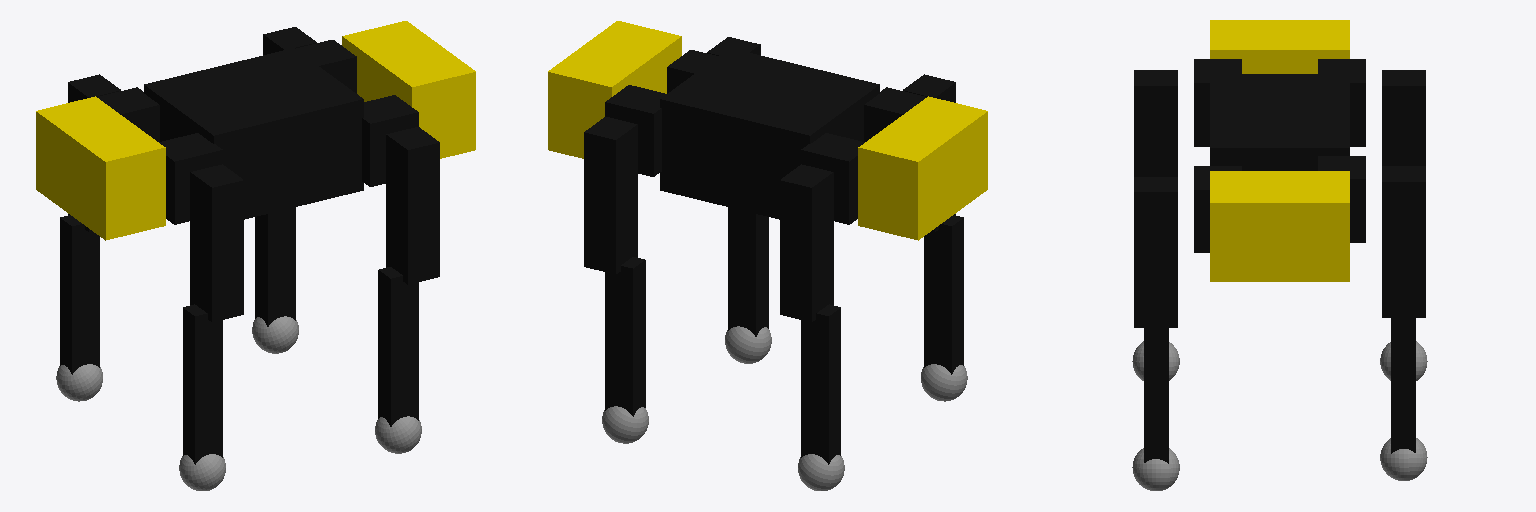
URDF robot description (SpotMicroAI):
<?xml version="1.0" encoding="utf-8"?>
<!-- =================================================================================== -->
<!-- |    This document was autogenerated by xacro from urdf/spotmicroai.urdf.xacro    | -->
<!-- |    EDITING THIS FILE BY HAND IS NOT RECOMMENDED                                 | -->
<!-- =================================================================================== -->
<robot name="SpotMicroAI">
  <material name="yellow">
    <color rgba="0.92 0.83 0.0 1"/>
  </material>
  <material name="black">
    <color rgba="0.1 0.1 0.1 1"/>
  </material>
  <material name="grey">
    <color rgba="0.6 0.6 0.6 1"/>
  </material>
  <!-- Params -->
  <!-- Macros -->
  <!-- Robot Body -->
  <link name="base_link">
    <visual>
      <geometry>
        <box size="0.14 0.113 0.0815"/>
      </geometry>
      <material name="black"/>
      <origin rpy="0 0 0" xyz="0.0 0.0 -0.00575"/>
      <!-- <origin rpy="0 0 0" xyz="-0.045 -0.060 -0.015"/> -->
    </visual>
    <collision>
      <geometry>
        <box size="0.14 0.11 0.07"/>
      </geometry>
      <origin rpy="0 0 0" xyz="0 0 0"/>
    </collision>
    <inertial>
      <mass value="2.80"/>
      <inertia ixx="100" ixy="0" ixz="0" iyy="100" iyz="0" izz="100"/>
    </inertial>
  </link>
  <!-- Lidar Backpack -->
  <!-- <link name="lidar_link">
    <visual>
      <geometry>
        <box size="0.0985 0.0577 0.07"/>
      </geometry>
      <material name="black"/>
      <origin rpy="1.57075 0 0" xyz="-0.06425 0.02885 0"/>
    </visual>
    <collision>
      <geometry>
        <box size="0.0985 0.0577 0.07"/>
      </geometry>
      <origin rpy="0 0 0" xyz="0 0 0"/>
    </collision>
    <inertial>
      <mass value="0.50"/>
      <inertia ixx="100" ixy="0" ixz="0" iyy="100" iyz="0" izz="100"/>
    </inertial>
  </link>
  <joint name="base_lidar" type="fixed">
    <parent link="base_link"/>
    <child link="lidar_link"/>
    <origin xyz="0 0 0.035"/>
  </joint> -->
  <link name="rear_link">
    <visual>
      <geometry>
        <box size="0.056 0.113 0.07"/>
      </geometry>
      <origin rpy="0 0 0" xyz="-0.143 0.0 0.0"/>
      <material name="yellow"/>
    </visual>
    <collision>
      <geometry>
        <box size="0.056 0.113 0.07"/>
      </geometry>
      <origin rpy="0 0 0" xyz="0.135 0 0"/>
    </collision>
    <inertial>
      <mass value="0.20"/>
      <inertia ixx="100" ixy="0" ixz="0" iyy="100" iyz="0" izz="100"/>
    </inertial>
  </link>
  <joint name="base_rear" type="fixed">
    <parent link="base_link"/>
    <child link="rear_link"/>
  </joint>
  <link name="front_link">
    <visual>
      <geometry>
        <box size="0.06 0.113 0.07"/>
      </geometry>
      <origin rpy="0 0 0" xyz="0.145 0.0 0.0"/>
      <material name="yellow"/>
    </visual>
    <collision>
      <geometry>
        <box size="0.06 0.113 0.07"/>
      </geometry>
      <origin rpy="0 0 0" xyz="-0.145 0 0"/>
    </collision>
    <inertial>
      <mass value="0.20"/>
      <inertia ixx="100" ixy="0" ixz="0" iyy="100" iyz="0" izz="100"/>
    </inertial>
  </link>
  <joint name="base_front" type="fixed">
    <parent link="base_link"/>
    <child link="front_link"/>
  </joint>
  <!-- create Legs -->
  <link name="front_left_shoulder_link">
    <visual>
      <geometry>
        <box size="0.0452 0.0385 0.0565"/>
      </geometry>
      <origin rpy="0 0 0" xyz="0.0 -0.01 -0.01"/>
      <material name="black"/>
    </visual>
    <collision>
      <geometry>
        <box size="0.0452 0.0385 0.0565"/>
      </geometry>
      <origin rpy="0 0 0" xyz="0 0 0"/>
    </collision>
    <inertial>
      <mass value="0.10"/>
      <inertia ixx="100" ixy="0" ixz="0" iyy="100" iyz="0" izz="100"/>
    </inertial>
  </link>
  <!-- <link name="front_left_leg_link_cover">
    <visual>
      <geometry>
        <mesh filename="package://kinematic_pkg/STL/larm_cover.stl" scale="0.001 0.001 0.001"/>
      </geometry>
      <origin rpy="0 0 0" xyz="-0.125 0.04 -0.02"/>
      <material name="yellow"/>
    </visual>
  </link> -->
  <link name="front_left_leg_link">
    <visual>
      <geometry>
        <box size="0.03 0.035 0.12"/>
      </geometry>
      <!-- <origin rpy="0 0 0" xyz="-0.125 0.04 -0.02"/> -->
      <origin rpy="0 0 0" xyz="0.0 0.0 -0.037"/>
      <material name="black"/>
      <!--        <geometry>
          <box size="0.028 0.036 ${leg_length}"/>
        </geometry>
        <origin rpy="0.0 0.0 0.0" xyz="0.0 0.0 -0.050"/>
        <material name="yellow"/>-->
    </visual>
    <collision>
      <origin rpy="0.0 0.0 0.0" xyz="0.0 0.0 -0.050"/>
      <geometry>
        <box size="0.03 0.035 0.12"/>
      </geometry>
    </collision>
    <inertial>
      <mass value="0.15"/>
      <inertia ixx="1000" ixy="0" ixz="0" iyy="1000" iyz="0" izz="1000"/>
    </inertial>
  </link>
  <link name="front_left_foot_link">
    <visual>
      <geometry>
        <box size="0.026 0.020 0.1355"/>
      </geometry>
      <origin rpy="0 0 0" xyz="0.0 0.0 -0.042"/>
      <material name="black"/>
    </visual>
    <collision>
      <geometry>
        <box size="0.026 0.020 0.1355"/>
      </geometry>
      <origin rpy="0.0 0.0 0.0" xyz="0.0 0.0 -0.050"/>
    </collision>
    <inertial>
      <mass value="0.1"/>
      <inertia ixx="1000" ixy="0" ixz="0" iyy="1000" iyz="0" izz="1000"/>
    </inertial>
  </link>
  <link name="front_left_toe_link">
    <visual>
      <geometry>
        <sphere radius="0.019"/>
      </geometry>
      <origin rpy="0 -0.40010 0" xyz="0 0 0"/>
      <material name="grey"/>
    </visual>
    <collision>
      <geometry>
        <sphere radius="0.019"/>
      </geometry>
      <origin rpy="0 0 0" xyz="0 0 0"/>
      <contact_coefficients mu="1.1"/>
    </collision>
    <inertial>
      <mass value="0.05"/>
      <inertia ixx="1000" ixy="0" ixz="0" iyy="1000" iyz="0" izz="1000"/>
    </inertial>
  </link>
  <joint name="front_left_shoulder" type="revolute">
    <parent link="base_link"/>
    <child link="front_left_shoulder_link"/>
    <axis xyz="1 0 0"/>
    <origin rpy="0 0 0" xyz="-0.09135 -0.04 0.009"/>
    <limit effort="1000.0" lower="-0.548" upper="0.548" velocity="0.7"/>
    <dynamics damping="0.0" friction="0.5"/>
  </joint>
  <joint name="front_left_leg" type="revolute">
    <parent link="front_left_shoulder_link"/>
    <child link="front_left_leg_link"/>
    <axis xyz="0 1 0"/>
    <origin rpy="0 0 0" xyz="0.0 -0.0593 -0.01075"/>
    <limit effort="1000.0" lower="-2.666" upper="1.548" velocity="0.5"/>
    <dynamics damping="0.0" friction="0.0"/>
  </joint>
  <!-- <joint name="front_left_leg_cover_joint" type="fixed">
    <parent link="front_left_leg_link"/>
    <child link="front_left_leg_link_cover"/>
    <origin xyz="0 0 0"/>
  </joint> -->
  <joint name="front_left_foot" type="revolute">
    <parent link="front_left_leg_link"/>
    <child link="front_left_foot_link"/>
    <axis xyz="0 1 0"/>
    <origin rpy="0 0 0" xyz="-0.01375 0 -0.1176"/>
    <limit effort="1000.0" lower="-0.1" upper="2.59" velocity="0.5"/>
    <dynamics damping="0.0" friction="0.5"/>
  </joint>
  <joint name="front_left_toe" type="fixed">
    <parent link="front_left_foot_link"/>
    <child link="front_left_toe_link"/>
    <origin xyz="0 0 -0.1165"/>
  </joint>

  <link name="front_right_shoulder_link">
    <visual>
      <geometry>
        <box size="0.0452 0.0385 0.0565"/>
      </geometry>
      <origin rpy="0 0 0" xyz="0.0 0.01 -0.01"/>
      <material name="black"/>
    </visual>
    <collision>
      <geometry>
        <box size="0.0452 0.0385 0.0565"/>
      </geometry>
      <origin rpy="0 0 0" xyz="0 0 0"/>
    </collision>
    <inertial>
      <mass value="0.10"/>
      <inertia ixx="100" ixy="0" ixz="0" iyy="100" iyz="0" izz="100"/>
    </inertial>
  </link>
  <!-- <link name="front_right_leg_link_cover">
    <visual>
      <geometry>
        <mesh filename="package://kinematic_pkg/STL/rarm_cover.stl" scale="0.001 0.001 0.001"/>
      </geometry>
      <origin rpy="0 0 0" xyz="-0.125 -0.15 -0.02"/>
      <material name="yellow"/>
    </visual>
  </link> -->
  <link name="front_right_leg_link">
    <visual>
      <geometry>
        <box size="0.03 0.035 0.12"/>
      </geometry>
      <origin rpy="0 0 0" xyz="0.0 0.0 -0.037"/>
      <material name="black"/>
      <!--        <geometry>
          <box size="0.028 0.036 ${leg_length}"/>
        </geometry>
        <origin rpy="0.0 0.0 0.0" xyz="0.0 0.0 -0.050"/>
        <material name="yellow"/>-->
    </visual>
    <collision>
      <origin rpy="0.0 0.0 0.0" xyz="0.0 0.0 -0.050"/>
      <geometry>
        <box size="0.03 0.035 0.12"/>
      </geometry>
    </collision>
    <inertial>
      <mass value="0.15"/>
      <inertia ixx="1000" ixy="0" ixz="0" iyy="1000" iyz="0" izz="1000"/>
    </inertial>
  </link>
  <link name="front_right_foot_link">
    <visual>
      <geometry>
        <box size="0.026 0.020 0.1355"/>
      </geometry>
      <origin rpy="0 0 0" xyz="0.0 0.0 -0.042"/>
      <material name="black"/>
    </visual>
    <collision>
      <geometry>
        <box size="0.026 0.020 0.1355"/>
      </geometry>
      <origin rpy="0.0 0.0 0.0" xyz="0.0 0.0 -0.050"/>
    </collision>
    <inertial>
      <mass value="0.1"/>
      <inertia ixx="1000" ixy="0" ixz="0" iyy="1000" iyz="0" izz="1000"/>
    </inertial>
  </link>
  <link name="front_right_toe_link">
    <visual>
      <geometry>
        <sphere radius="0.019"/>
      </geometry>
      <origin rpy="0 -0.40010 0" xyz="0 0 0"/>
      <material name="grey"/>
    </visual>
    <collision>
      <geometry>
        <sphere radius="0.019"/>
      </geometry>
      <origin rpy="0 0 0" xyz="0 0 0"/>
      <contact_coefficients mu="1.1"/>
    </collision>
    <inertial>
      <mass value="0.05"/>
      <inertia ixx="1000" ixy="0" ixz="0" iyy="1000" iyz="0" izz="1000"/>
    </inertial>
  </link>
  <joint name="front_right_shoulder" type="revolute">
    <parent link="base_link"/>
    <child link="front_right_shoulder_link"/>
    <axis xyz="1 0 0"/>
    <origin rpy="0 0 0" xyz="-0.09135 0.04 0.009"/>
    <limit effort="1000.0" lower="-0.548" upper="0.548" velocity="0.7"/>
    <dynamics damping="0.0" friction="0.5"/>
  </joint>
  <joint name="front_right_leg" type="revolute">
    <parent link="front_right_shoulder_link"/>
    <child link="front_right_leg_link"/>
    <axis xyz="0 1 0"/>
    <origin rpy="0 0 0" xyz="0 0.0593 -0.01075"/>
    <limit effort="1000.0" lower="-2.666" upper="1.548" velocity="0.5"/>
    <dynamics damping="0.0" friction="0.0"/>
  </joint>
  <!-- <joint name="front_right_leg_cover_joint" type="fixed">
    <parent link="front_right_leg_link"/>
    <child link="front_right_leg_link_cover"/>
    <origin xyz="0 0 0"/>
  </joint> -->
  <joint name="front_right_foot" type="revolute">
    <parent link="front_right_leg_link"/>
    <child link="front_right_foot_link"/>
    <axis xyz="0 1 0"/>
    <origin rpy="0 0 0" xyz="-0.01375 0 -0.1176"/>
    <limit effort="1000.0" lower="-0.1" upper="2.59" velocity="0.5"/>
    <dynamics damping="0.0" friction="0.5"/>
  </joint>
  <joint name="front_right_toe" type="fixed">
    <parent link="front_right_foot_link"/>
    <child link="front_right_toe_link"/>
    <origin xyz="0 0 -0.1165"/>
  </joint>
  
  <link name="rear_left_shoulder_link">
    <visual>
      <geometry>
        <box size="0.0452 0.0385 0.0565"/>
      </geometry>
      <origin rpy="0 0 0" xyz="0.0 -0.01 -0.01"/>
      <material name="black"/>
    </visual>
    <collision>
      <geometry>
        <box size="0.0452 0.0385 0.0565"/>
      </geometry>
      <origin rpy="0 0 0" xyz="0 0 0"/>
    </collision>
    <inertial>
      <mass value="0.10"/>
      <inertia ixx="100" ixy="0" ixz="0" iyy="100" iyz="0" izz="100"/>
    </inertial>
  </link>
  <!-- <link name="rear_left_leg_link_cover">
    <visual>
      <geometry>
        <mesh filename="package://kinematic_pkg/STL/larm_cover.stl" scale="0.001 0.001 0.001"/>
      </geometry>
      <origin rpy="0 0 0" xyz="-0.125 0.04 -0.02"/>
      <material name="yellow"/>
    </visual>
  </link> -->
  <link name="rear_left_leg_link">
    <visual>
      <geometry>
        <box size="0.03 0.035 0.12"/>
      </geometry>
      <origin rpy="0 0 0" xyz="0.0 0.0 -0.037"/>
      <material name="black"/>
      <!--        <geometry>
          <box size="0.028 0.036 ${leg_length}"/>
        </geometry>
        <origin rpy="0.0 0.0 0.0" xyz="0.0 0.0 -0.050"/>
        <material name="yellow"/>-->
    </visual>
    <collision>
      <origin rpy="0.0 0.0 0.0" xyz="0.0 0.0 -0.050"/>
      <geometry>
        <box size="0.03 0.035 0.12"/>
      </geometry>
    </collision>
    <inertial>
      <mass value="0.15"/>
      <inertia ixx="1000" ixy="0" ixz="0" iyy="1000" iyz="0" izz="1000"/>
    </inertial>
  </link>
  <link name="rear_left_foot_link">
    <visual>
      <geometry>
        <box size="0.026 0.020 0.1355"/>
      </geometry>
      <origin rpy="0 0 0" xyz="0.0 0.0 -0.042"/>
      <material name="black"/>
    </visual>
    <collision>
      <geometry>
        <box size="0.026 0.020 0.1355"/>
      </geometry>
      <origin rpy="0.0 0.0 0.0" xyz="0.0 0.0 -0.050"/>
    </collision>
    <inertial>
      <mass value="0.1"/>
      <inertia ixx="1000" ixy="0" ixz="0" iyy="1000" iyz="0" izz="1000"/>
    </inertial>
  </link>
  <link name="rear_left_toe_link">
    <visual>
      <geometry>
        <sphere radius="0.019"/>
      </geometry>
      <origin rpy="0 -0.40010 0" xyz="0 0 0"/>
      <material name="grey"/>
    </visual>
    <collision>
      <geometry>
        <sphere radius="0.019"/>
      </geometry>
      <origin rpy="0 0 0" xyz="0 0 0"/>
      <contact_coefficients mu="1.1"/>
    </collision>
    <inertial>
      <mass value="0.05"/>
      <inertia ixx="1000" ixy="0" ixz="0" iyy="1000" iyz="0" izz="1000"/>
    </inertial>
  </link>
  <joint name="rear_left_shoulder" type="revolute">
    <parent link="base_link"/>
    <child link="rear_left_shoulder_link"/>
    <axis xyz="1 0 0"/>
    <origin rpy="0 0 0" xyz="0.09135 -0.04 0"/>
    <limit effort="1000.0" lower="-0.548" upper="0.548" velocity="0.7"/>
    <dynamics damping="0.0" friction="0.5"/>
  </joint>
  <joint name="rear_left_leg" type="revolute">
    <parent link="rear_left_shoulder_link"/>
    <child link="rear_left_leg_link"/>
    <axis xyz="0 1 0"/>
    <origin rpy="0 0 0" xyz="0 -0.0593 -0.01075"/>
    <limit effort="1000.0" lower="-2.666" upper="1.548" velocity="0.5"/>
    <dynamics damping="0.0" friction="0.0"/>
  </joint>
  <!-- <joint name="rear_left_leg_cover_joint" type="fixed">
    <parent link="rear_left_leg_link"/>
    <child link="rear_left_leg_link_cover"/>
    <origin xyz="0 0 0"/>
  </joint> -->
  <joint name="rear_left_foot" type="revolute">
    <parent link="rear_left_leg_link"/>
    <child link="rear_left_foot_link"/>
    <axis xyz="0 1 0"/>
    <origin rpy="0 0 0" xyz="-0.01375 0 -0.1176"/>
    <limit effort="1000.0" lower="-0.1" upper="2.59" velocity="0.5"/>
    <dynamics damping="0.0" friction="0.5"/>
  </joint>
  <joint name="rear_left_toe" type="fixed">
    <parent link="rear_left_foot_link"/>
    <child link="rear_left_toe_link"/>
    <origin xyz="0 0 -0.1165"/>
  </joint>

  <link name="rear_right_shoulder_link">
    <visual>
      <geometry>
        <box size="0.0452 0.0385 0.0565"/>
      </geometry>
      <origin rpy="0 0 0" xyz="0.0 0.01 -0.01"/>
      <material name="black"/>
    </visual>
    <collision>
      <geometry>
        <box size="0.0452 0.0385 0.0565"/>
      </geometry>
      <origin rpy="0 0 0" xyz="0 0 0"/>
    </collision>
    <inertial>
      <mass value="0.10"/>
      <inertia ixx="100" ixy="0" ixz="0" iyy="100" iyz="0" izz="100"/>
    </inertial>
  </link>
  <!-- <link name="rear_right_leg_link_cover">
    <visual>
      <geometry>
        <mesh filename="package://kinematic_pkg/STL/rarm_cover.stl" scale="0.001 0.001 0.001"/>
      </geometry>
      <origin rpy="0 0 0" xyz="-0.125 -0.15 -0.02"/>
      <material name="yellow"/>
    </visual>
  </link> -->
  <link name="rear_right_leg_link">
    <visual>
      <geometry>
        <box size="0.03 0.035 0.12"/>
      </geometry>
      <origin rpy="0 0 0" xyz="0.0 -0.0 -0.037"/>
      <material name="black"/>
      <!--        <geometry>
          <box size="0.028 0.036 ${leg_length}"/>
        </geometry>
        <origin rpy="0.0 0.0 0.0" xyz="0.0 0.0 -0.050"/>
        <material name="yellow"/>-->
    </visual>
    <collision>
      <origin rpy="0.0 0.0 0.0" xyz="0.0 0.0 -0.050"/>
      <geometry>
        <box size="0.03 0.035 0.12"/>
      </geometry>
    </collision>
    <inertial>
      <mass value="0.15"/>
      <inertia ixx="1000" ixy="0" ixz="0" iyy="1000" iyz="0" izz="1000"/>
    </inertial>
  </link>
  <link name="rear_right_foot_link">
    <visual>
      <geometry>
        <box size="0.026 0.020 0.1355"/>
      </geometry>
      <origin rpy="0 0 0" xyz="0.0 0.0 -0.042"/>
      <material name="black"/>
    </visual>
    <collision>
      <geometry>
        <box size="0.026 0.020 0.1355"/>
      </geometry>
      <origin rpy="0.0 0.0 0.0" xyz="0.0 0.0 -0.050"/>
    </collision>
    <inertial>
      <mass value="0.1"/>
      <inertia ixx="1000" ixy="0" ixz="0" iyy="1000" iyz="0" izz="1000"/>
    </inertial>
  </link>
  <link name="rear_right_toe_link">
    <visual>
      <geometry>
        <sphere radius="0.019"/>
      </geometry>
      <origin rpy="0 -0.40010 0" xyz="0 0 0"/>
      <material name="grey"/>
    </visual>
    <collision>
      <geometry>
        <sphere radius="0.019"/>
      </geometry>
      <origin rpy="0 0 0" xyz="0 0 0"/>
      <contact_coefficients mu="1.1"/>
    </collision>
    <inertial>
      <mass value="0.05"/>
      <inertia ixx="1000" ixy="0" ixz="0" iyy="1000" iyz="0" izz="1000"/>
    </inertial>
  </link>
  <joint name="rear_right_shoulder" type="revolute">
    <parent link="base_link"/>
    <child link="rear_right_shoulder_link"/>
    <axis xyz="1 0 0"/>
    <origin rpy="0 0 0" xyz="0.09135 0.04 0.009"/>
    <limit effort="1000.0" lower="-0.548" upper="0.548" velocity="0.7"/>
    <dynamics damping="0.0" friction="0.5"/>
  </joint>
  <joint name="rear_right_leg" type="revolute">
    <parent link="rear_right_shoulder_link"/>
    <child link="rear_right_leg_link"/>
    <axis xyz="0 1 0"/>
    <origin rpy="0 0 0" xyz="0 0.0593 -0.01075"/>
    <limit effort="1000.0" lower="-2.666" upper="1.548" velocity="0.5"/>
    <dynamics damping="0.0" friction="0.0"/>
  </joint>
  <!-- <joint name="rear_right_leg_cover_joint" type="fixed">
    <parent link="rear_right_leg_link"/>
    <child link="rear_right_leg_link_cover"/>
    <origin xyz="0 0 0"/>
  </joint> -->
  <joint name="rear_right_foot" type="revolute">
    <parent link="rear_right_leg_link"/>
    <child link="rear_right_foot_link"/>
    <axis xyz="0 1 0"/>
    <origin rpy="0 0 0" xyz="-0.01375 0 -0.1176"/>
    <limit effort="1000.0" lower="-0.1" upper="2.59" velocity="0.5"/>
    <dynamics damping="0.0" friction="0.5"/>
  </joint>
  <joint name="rear_right_toe" type="fixed">
    <parent link="rear_right_foot_link"/>
    <child link="rear_right_toe_link"/>
    <origin xyz="0 0 -0.1165"/>
  </joint>
</robot>

--- Facts derived from the render (not from the file) ---
3 views of the same robot in one strip: view 1: azimuth 30°, elevation 25°; view 2: azimuth 150°, elevation 25°; view 3: azimuth 270°, elevation 25° (orthographic).
Robot: SpotMicroAI — 19 links, 18 joints (12 revolute, 6 fixed); root link base_link; default pose: all joints at 0.
Links seen in each view (by area): view 1: base_link, rear_link, front_link, rear_left_leg_link, front_left_leg_link, rear_left_foot_link, front_left_foot_link, front_right_foot_link, rear_right_foot_link, front_left_shoulder_link, rear_left_shoulder_link, front_right_shoulder_link (+7 smaller); view 2: base_link, rear_link, front_link, rear_right_leg_link, front_right_leg_link, rear_right_foot_link, front_right_foot_link, front_left_foot_link, rear_left_foot_link, front_right_shoulder_link, rear_right_shoulder_link, front_left_shoulder_link (+7 smaller); view 3: front_link, base_link, rear_right_leg_link, rear_left_leg_link, rear_link, front_left_leg_link, front_right_leg_link, rear_left_foot_link, rear_right_foot_link, front_left_shoulder_link, front_right_shoulder_link, rear_right_shoulder_link (+5 smaller).
Link boxes in pixels (box(x1,y1,x2,y2)): base_link: box(144, 48, 363, 219); rear_link: box(36, 96, 165, 240); front_link: box(342, 21, 475, 158); rear_left_leg_link: box(386, 127, 439, 284); front_left_leg_link: box(190, 164, 243, 321); rear_left_foot_link: box(378, 267, 418, 426); front_left_foot_link: box(183, 304, 222, 464); front_right_foot_link: box(60, 215, 99, 374); rear_right_foot_link: box(255, 207, 295, 326); front_left_shoulder_link: box(159, 133, 222, 224); rear_left_shoulder_link: box(362, 95, 418, 186); front_right_shoulder_link: box(97, 87, 159, 141); base_link: box(660, 48, 879, 219); rear_link: box(858, 96, 987, 240); front_link: box(548, 21, 681, 158); rear_right_leg_link: box(584, 117, 637, 274); front_right_leg_link: box(780, 164, 833, 321); rear_right_foot_link: box(605, 257, 645, 416); front_right_foot_link: box(801, 304, 840, 464); front_left_foot_link: box(924, 215, 963, 374); rear_left_foot_link: box(728, 207, 768, 336); front_right_shoulder_link: box(801, 133, 864, 224); rear_right_shoulder_link: box(605, 85, 665, 176); front_left_shoulder_link: box(864, 87, 926, 141); front_link: box(1210, 171, 1349, 281); base_link: box(1210, 74, 1349, 170); rear_right_leg_link: box(1382, 166, 1425, 317); rear_left_leg_link: box(1134, 177, 1177, 327); rear_link: box(1210, 20, 1349, 73); front_left_leg_link: box(1134, 70, 1177, 176); front_right_leg_link: box(1382, 70, 1425, 165); rear_left_foot_link: box(1144, 328, 1168, 463); rear_right_foot_link: box(1391, 318, 1415, 453); front_left_shoulder_link: box(1194, 59, 1241, 146); front_right_shoulder_link: box(1318, 59, 1365, 146); rear_right_shoulder_link: box(1318, 156, 1365, 242).
Size in the robot's own frame: 0.346 by 0.2366 by 0.2988 metres.
Geometry: primitives only (box / cylinder / sphere), no mesh files.